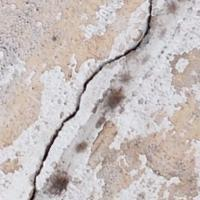crack: (20, 0, 169, 199)
